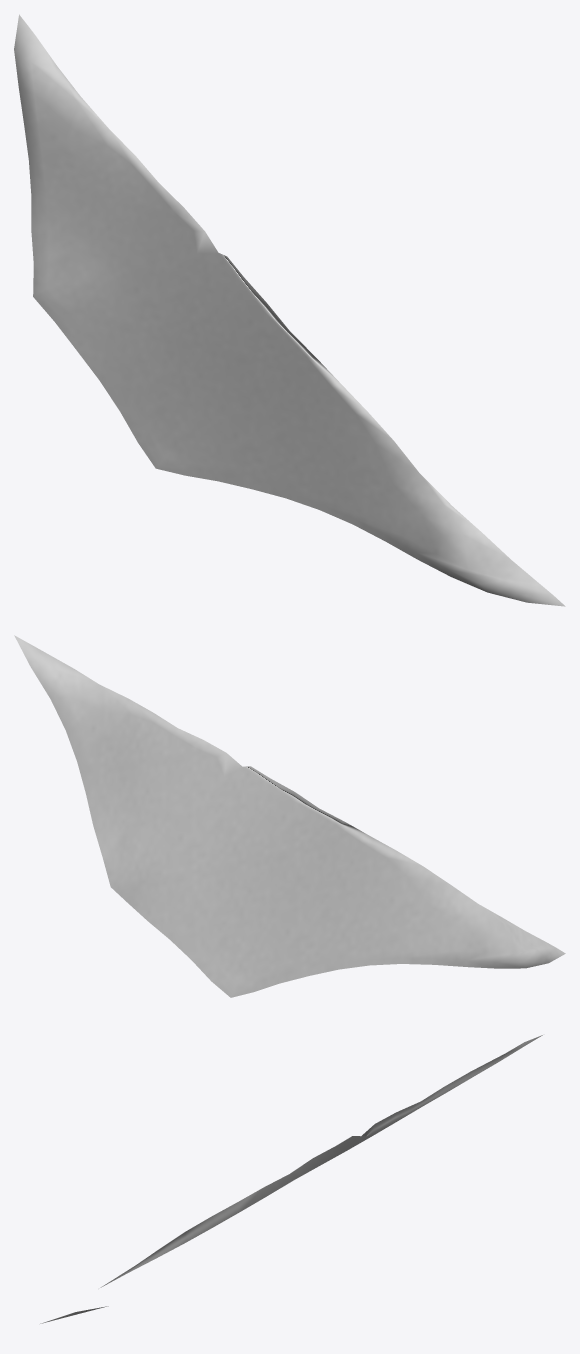
Rendered from Pants_Decor_Pocket_Left_V1.glb.
3 renders of one model, top to bottom at view 1: azimuth 90°, elevation 25°; view 2: azimuth 150°, elevation 25°; view 3: azimuth 270°, elevation 25°, orthographic.
Visible parts, largest first — view 1: Pants_Decor_Pocket_Left_V11; view 2: Pants_Decor_Pocket_Left_V11; view 3: Pants_Decor_Pocket_Left_V11.
Boxes of the visible parts, x1,y1,x2,y2 form: Pants_Decor_Pocket_Left_V11: (14, 14, 565, 606); Pants_Decor_Pocket_Left_V11: (14, 635, 565, 997); Pants_Decor_Pocket_Left_V11: (40, 1035, 542, 1323).
Bounding box in the file's own units: 0.0529 × 0.0792 × 0.0875.
Materials: 1 (1 with a texture image).
